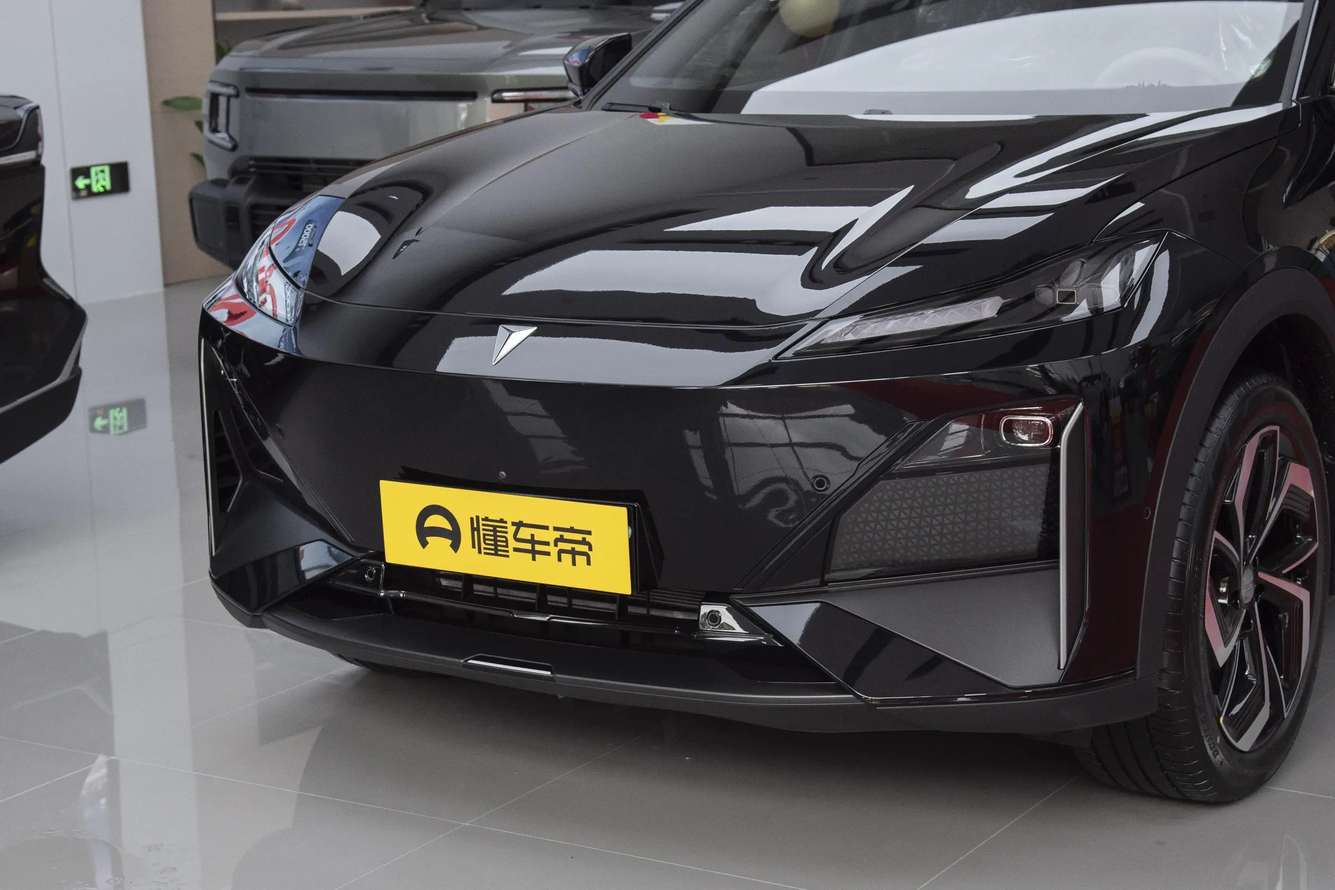Deepal: (492, 325, 536, 366)
